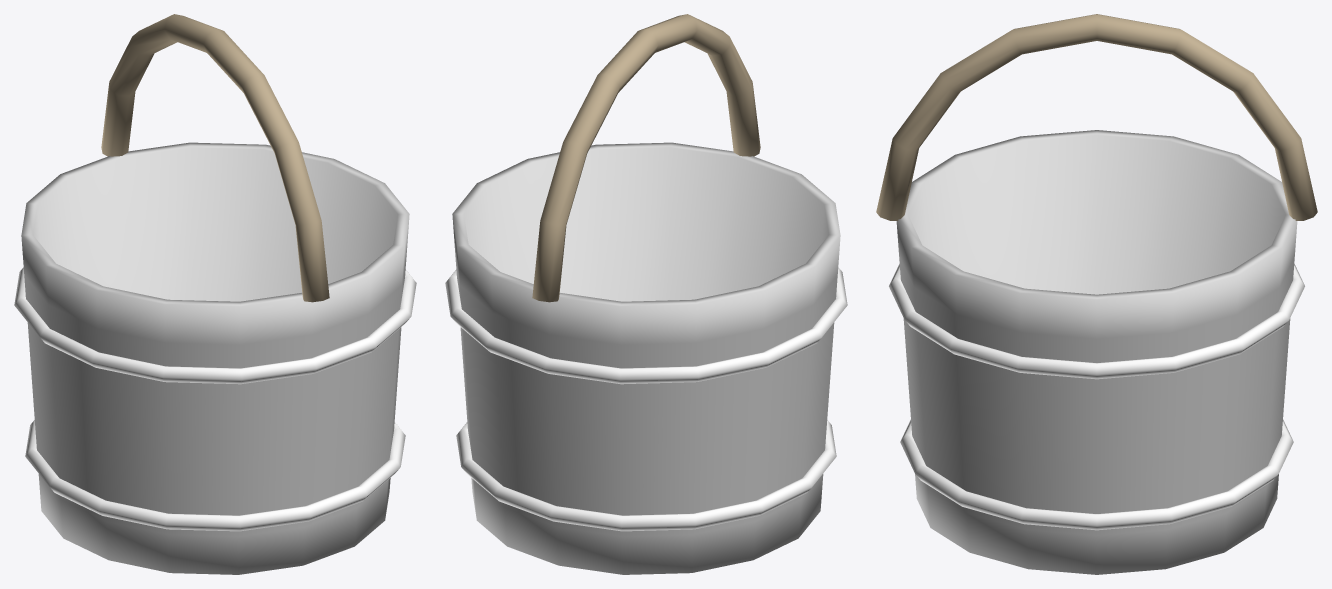
File: bucket.glb
3 views of the same model, side by side, from view 1: azimuth 30°, elevation 25°; view 2: azimuth 150°, elevation 25°; view 3: azimuth 270°, elevation 25° (orthographic). The views are drawn at different scales.
Visible parts, largest first — view 1: Bucket; view 2: Bucket; view 3: Bucket.
Boxes of the visible parts, x1,y1,x2,y2 form: Bucket: (14,14,416,574); Bucket: (445,14,847,574); Bucket: (876,14,1317,574).
Size of the model in its own units: 0.2326 by 0.3235 by 0.2467.
